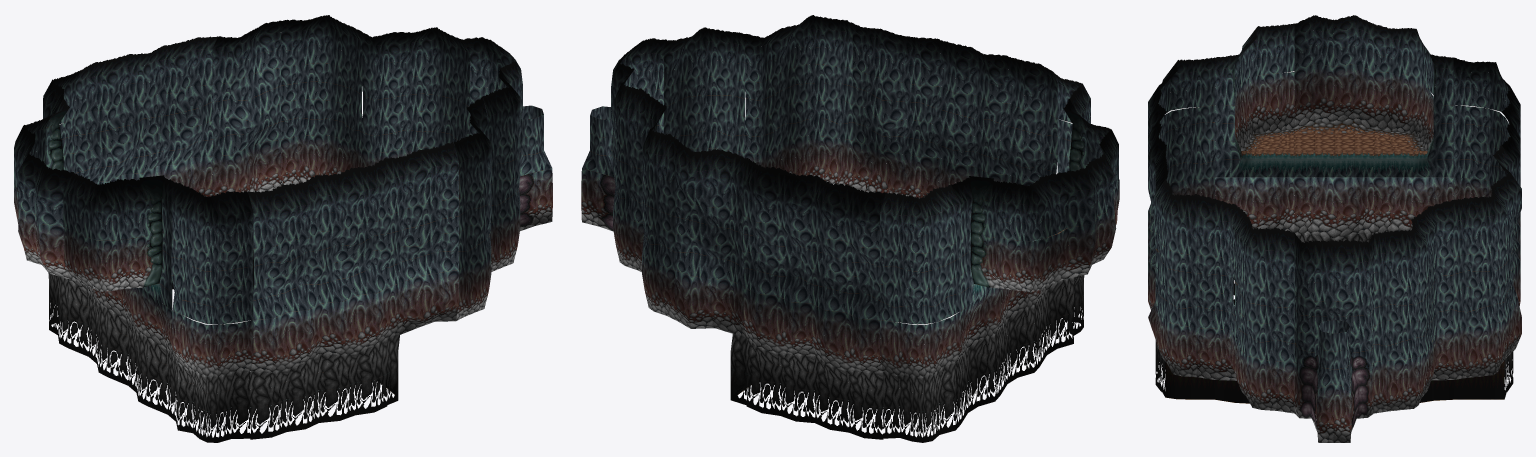
The picture shows the model from 3 angles, left to right: view 1: azimuth 30°, elevation 25°; view 2: azimuth 150°, elevation 25°; view 3: azimuth 270°, elevation 25°; orthographic projection.
Parts seen in each view (by area): view 1: T5L3M006_51, T5L3M006_54, T5L3M006_57, T5L3M006_50, T5L3M006_13, T5L3M006_25, T5L3M006_7, T5L3M006_56, T5L3M006_59, T5L3M006_10, T5L3M006_53, T5L3M006_4 (+38 smaller); view 2: T5L3M006_2, T5L3M006_5, T5L3M006_8, T5L3M006_1, T5L3M006_62, T5L3M006_47, T5L3M006_59, T5L3M006_56, T5L3M006_7, T5L3M006_4, T5L3M006_10, T5L3M006_53 (+38 smaller); view 3: T5L3M006_28, T5L3M006_34, T5L3M006_36, T5L3M006_30, T5L3M006_13, T5L3M006_38, T5L3M006_16, T5L3M006_47, T5L3M006_62, T5L3M006_25, T5L3M006_27, T5L3M006_50 (+42 smaller).
Boxes of the visible parts, x1,y1,x2,y2 form: T5L3M006_51: [172, 311, 253, 442]; T5L3M006_54: [250, 303, 321, 439]; T5L3M006_57: [319, 287, 390, 422]; T5L3M006_50: [171, 239, 253, 324]; T5L3M006_13: [281, 63, 362, 148]; T5L3M006_25: [389, 75, 469, 154]; T5L3M006_7: [143, 84, 213, 172]; T5L3M006_56: [320, 215, 390, 303]; T5L3M006_59: [389, 198, 458, 286]; T5L3M006_10: [212, 68, 280, 156]; T5L3M006_53: [253, 232, 322, 319]; T5L3M006_4: [75, 101, 145, 182]; T5L3M006_2: [880, 311, 960, 442]; T5L3M006_5: [811, 304, 883, 439]; T5L3M006_8: [743, 287, 814, 422]; T5L3M006_1: [879, 240, 960, 324]; T5L3M006_62: [772, 64, 852, 148]; T5L3M006_47: [664, 76, 745, 152]; T5L3M006_59: [852, 69, 921, 156]; T5L3M006_56: [919, 85, 989, 173]; T5L3M006_7: [743, 215, 812, 303]; T5L3M006_4: [811, 232, 881, 320]; T5L3M006_10: [675, 199, 744, 286]; T5L3M006_53: [988, 102, 1057, 182]; T5L3M006_28: [1294, 64, 1373, 150]; T5L3M006_34: [1294, 290, 1373, 431]; T5L3M006_36: [1314, 301, 1354, 442]; T5L3M006_30: [1294, 177, 1373, 263]; T5L3M006_13: [1453, 232, 1513, 328]; T5L3M006_38: [1235, 72, 1294, 150]; T5L3M006_16: [1374, 71, 1433, 150]; T5L3M006_47: [1233, 265, 1294, 362]; T5L3M006_62: [1154, 232, 1214, 328]; T5L3M006_25: [1374, 266, 1433, 361]; T5L3M006_27: [1294, 15, 1373, 71]; T5L3M006_50: [1158, 105, 1214, 184].
Bounding box in the file's own units: 30.12 × 13.94 × 18.81.
1 material, 1 textured.
